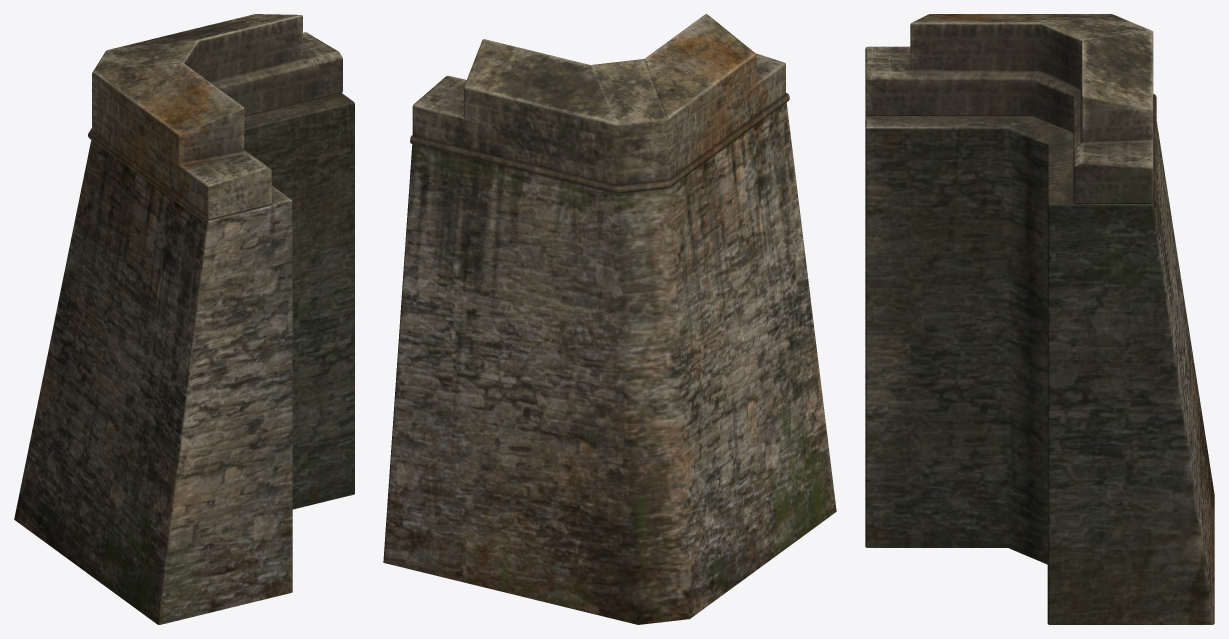
File: wall_corner.glb
The picture shows the model from 3 angles, left to right: view 1: azimuth 30°, elevation 25°; view 2: azimuth 150°, elevation 25°; view 3: azimuth 270°, elevation 25°; orthographic projection. The views are drawn at different scales.
Visible parts, largest first — view 1: wall_corner; view 2: wall_corner; view 3: wall_corner.
Part boxes in pixels (x1=…): wall_corner: x1=14, y1=14, x2=354, y2=624; wall_corner: x1=383, y1=14, x2=836, y2=624; wall_corner: x1=865, y1=14, x2=1214, y2=624.
Bounding box in the file's own units: 3.18 × 5.12 × 3.18.
Materials: 1 (1 with a texture image).
